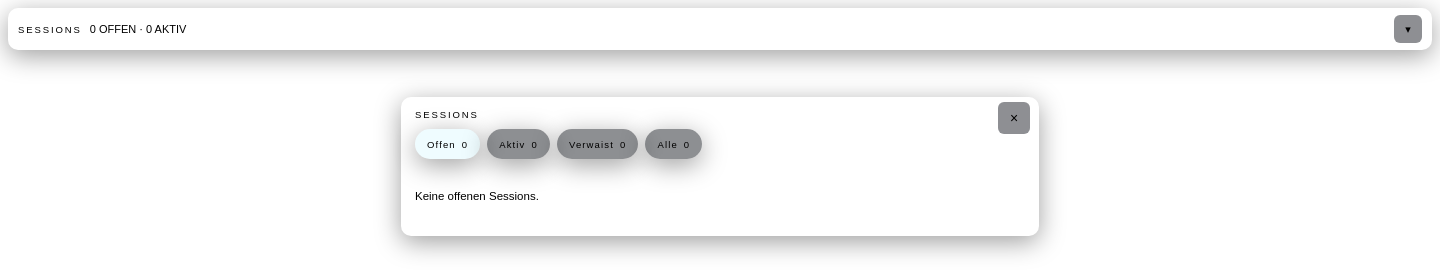
Test: SessionsPanel (Spawn-Baum der Klassik im Jarvis-Look) › Empty-State im aktiven Filter (keine falsche Leere beim Laden)
This screenshot has width=1440, height=274.
Expected: the text "Keine offenen Sessions." is shown, top-left (415, 190), bottom-right (539, 202)
Click the button "Verwaist 0" at {"x": 598, "y": 144}, box top-left (557, 129), bottom-right (638, 159)
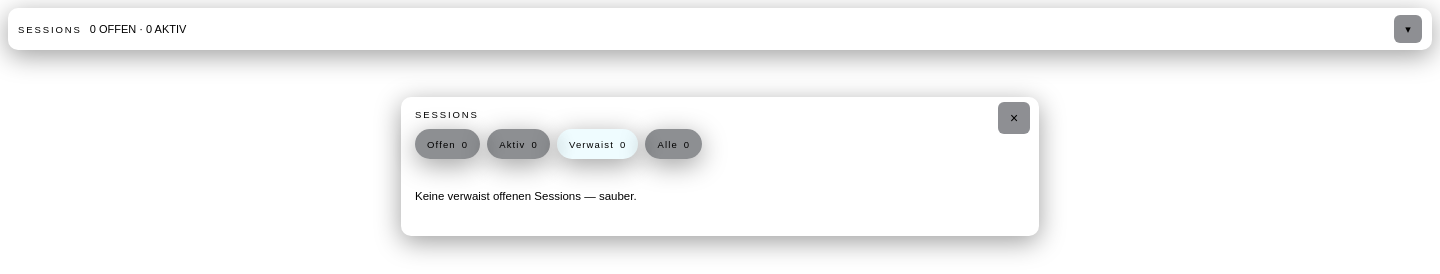
Expected: the text "Keine verwaist offenen Sessions — sauber." is shown, top-left (415, 190), bottom-right (637, 202)
